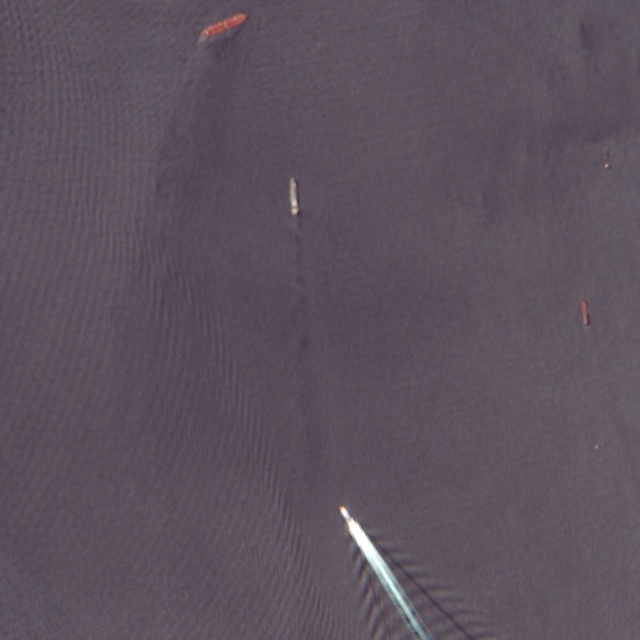wake: (302, 475, 451, 639)
